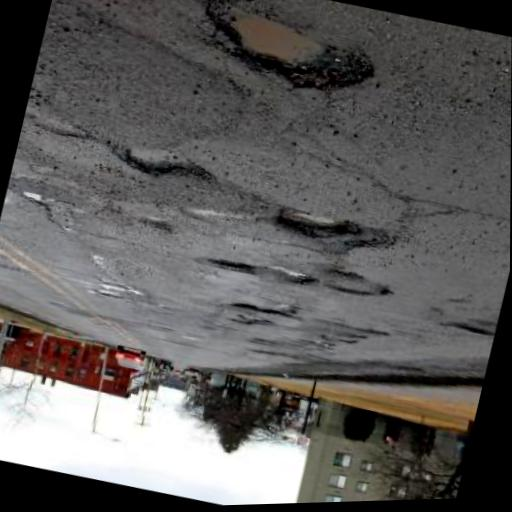pothole: (185, 0, 384, 111), (116, 138, 218, 194), (268, 201, 363, 254), (226, 297, 292, 325), (261, 261, 318, 291), (200, 254, 259, 281)
